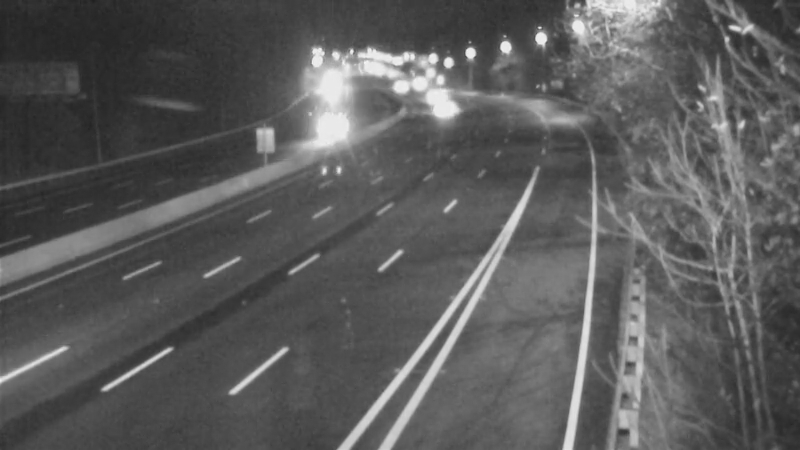vehicle: (388, 60, 438, 110), (373, 58, 423, 108), (412, 72, 462, 122), (422, 85, 472, 135), (305, 103, 355, 153)
